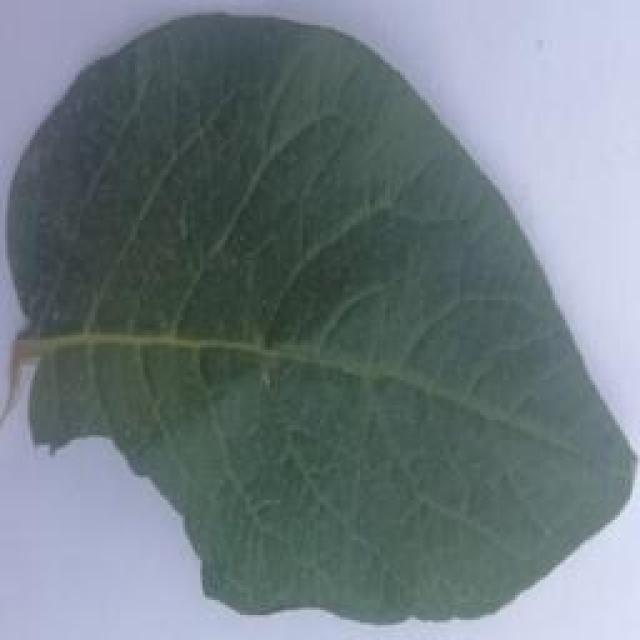Potato_Healthy: (6, 13, 624, 622)
